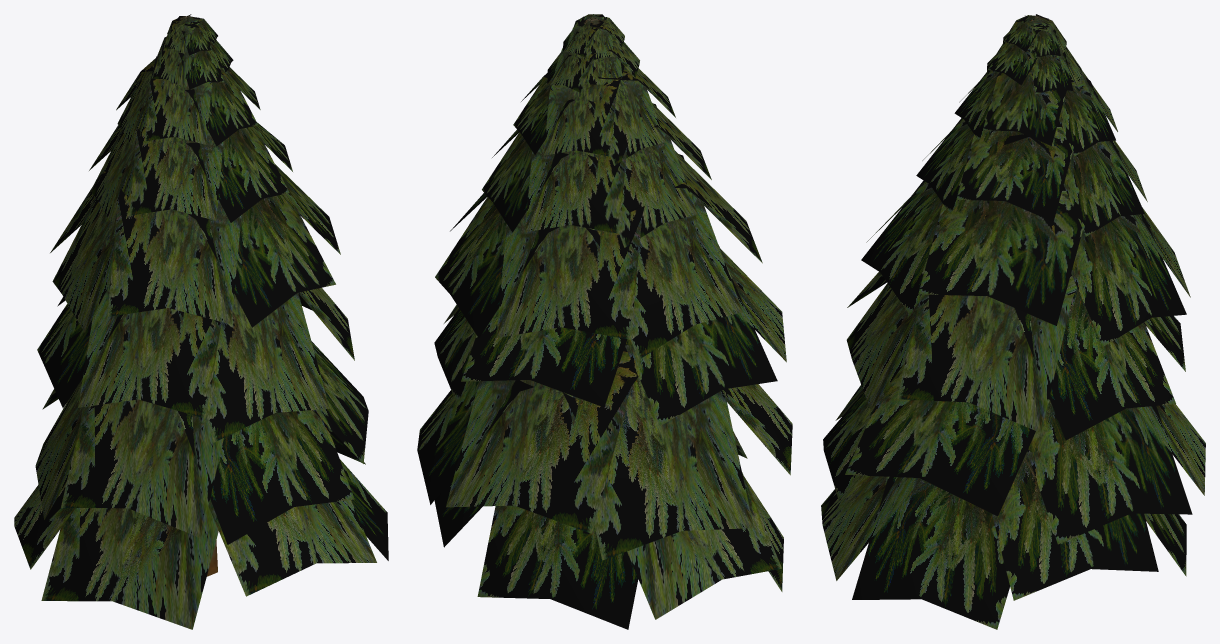
Rendered from tanne.dae.
3 renders of one model, left to right at view 1: azimuth 30°, elevation 25°; view 2: azimuth 150°, elevation 25°; view 3: azimuth 270°, elevation 25°, orthographic. The views are drawn at different scales.
Visible parts, largest first — view 1: Plane.001; view 2: Plane.001; view 3: Plane.001.
Part boxes in pixels (<box>): Plane.001: <box>14,14,388,629</box>; Plane.001: <box>417,14,792,629</box>; Plane.001: <box>821,14,1205,629</box>.
Bounding box in the file's own units: 3.14 × 2.99 × 4.81.
1 material, 1 textured.
